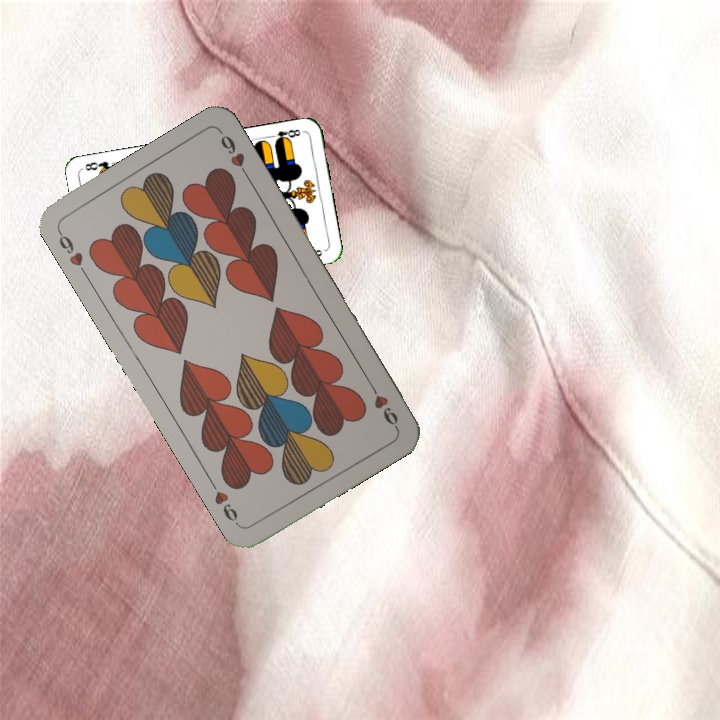E8: (265, 125, 303, 145)
H9: (364, 377, 401, 431), (54, 226, 91, 280)
